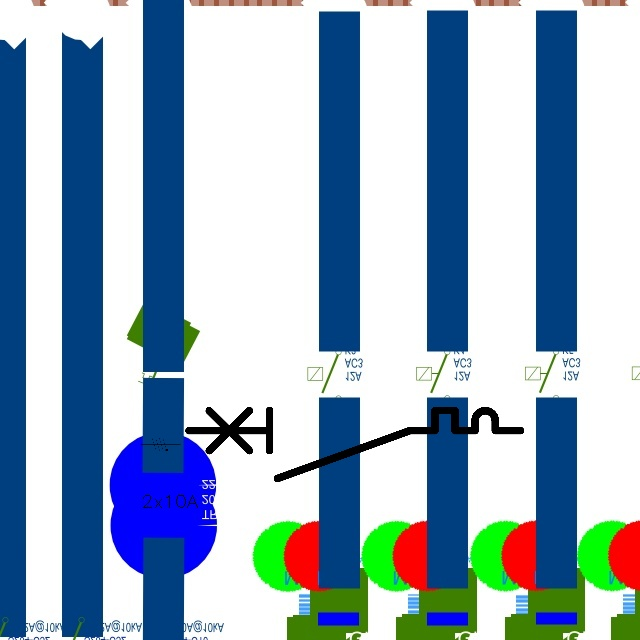interruptor_termomagnetico: (180, 402, 529, 487)
